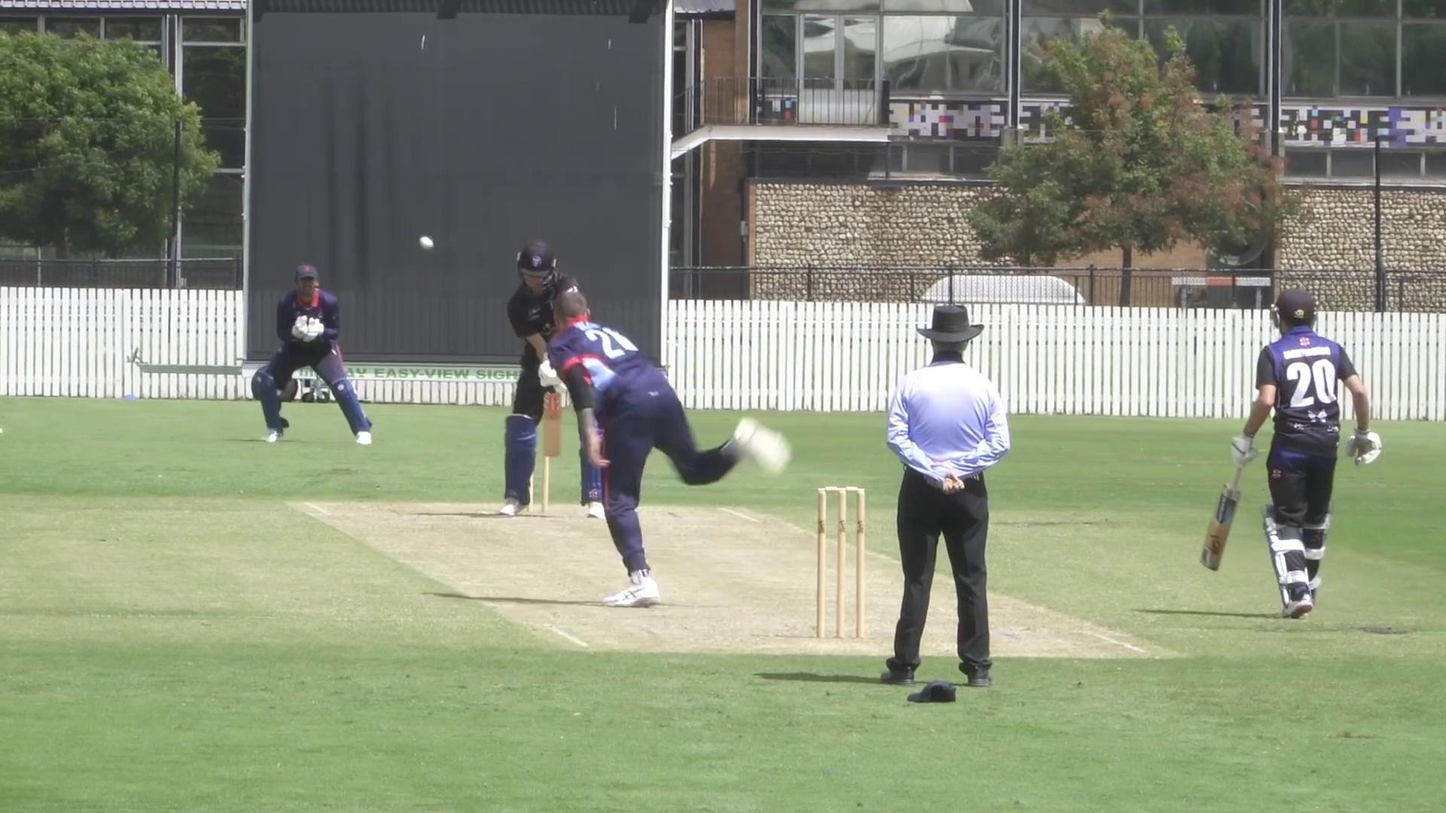ball: (416, 234, 440, 253)
